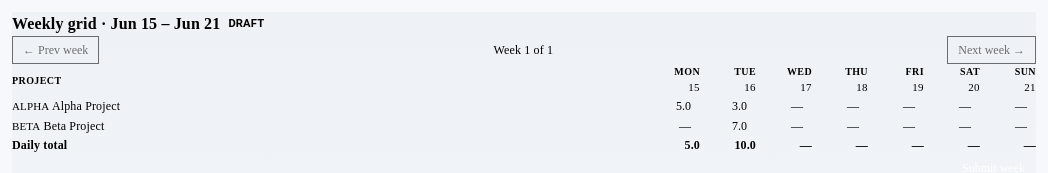
Test case: TimeTab weekly grid › blocks a cell commit + shows an inline error when hours exceed 24/day
This screenshot has width=1048, height=173.
Expected: the element with test id "me-time-weekly-grid" is shown, 12,64 -> 1036,154
Click the button with class "ds-editable-cell" showing "5.0" at (668, 106), box 640,94 -> 696,116
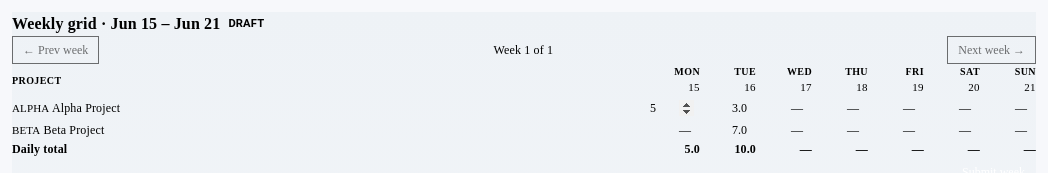
Replace the text in the number field showing "5" with "25" at (672, 108), box 644,96 -> 700,120
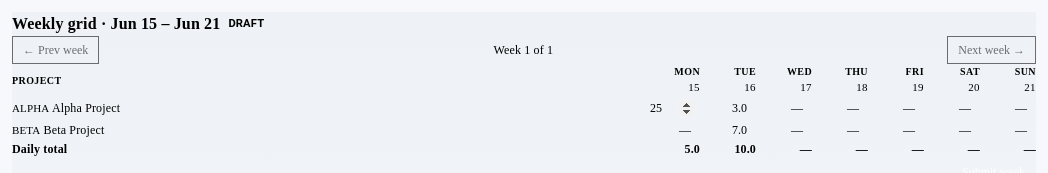
Leave the number field showing "5", box 644,96 -> 700,120
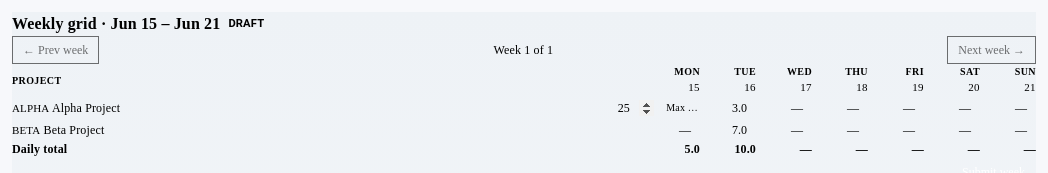
Now the message reads "Max 24h per day", box 666,102 -> 737,113
